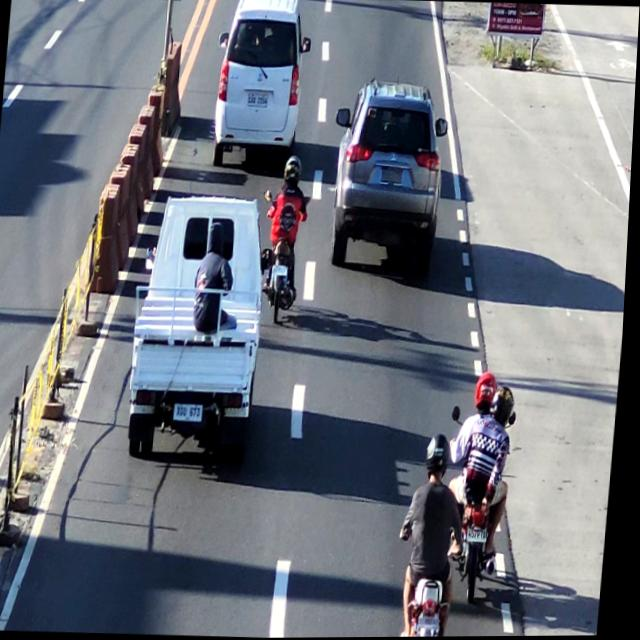Car: (329, 78, 449, 278), (209, 0, 310, 171)
License-Plate: (173, 401, 210, 424), (244, 92, 271, 111), (469, 525, 493, 544), (273, 262, 291, 276)
Motorcycle: (457, 372, 512, 604), (405, 435, 468, 637), (258, 156, 315, 327)
Truck: (128, 187, 271, 462)
